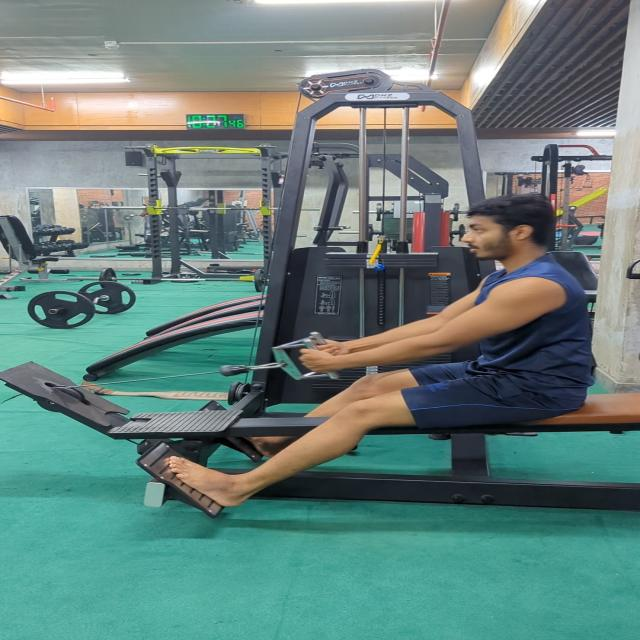Normal_RowingMachineExercise: (160, 195, 596, 510)
